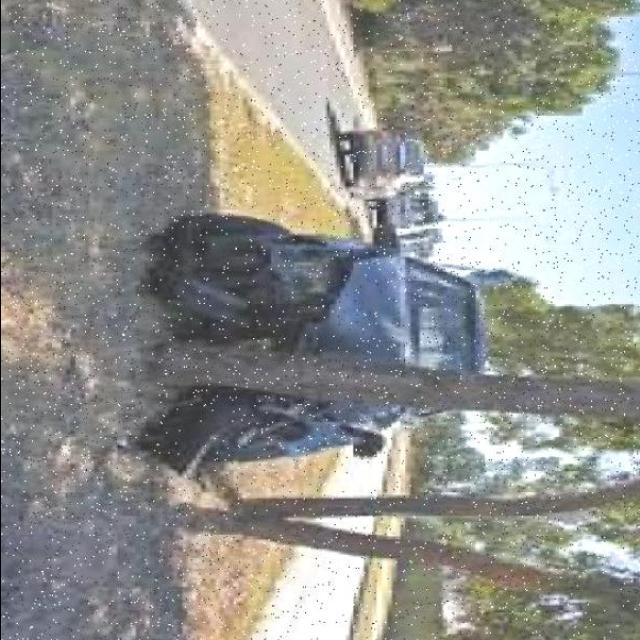accident: (113, 205, 543, 483)
